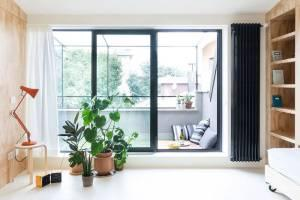window: (46, 24, 224, 154)
